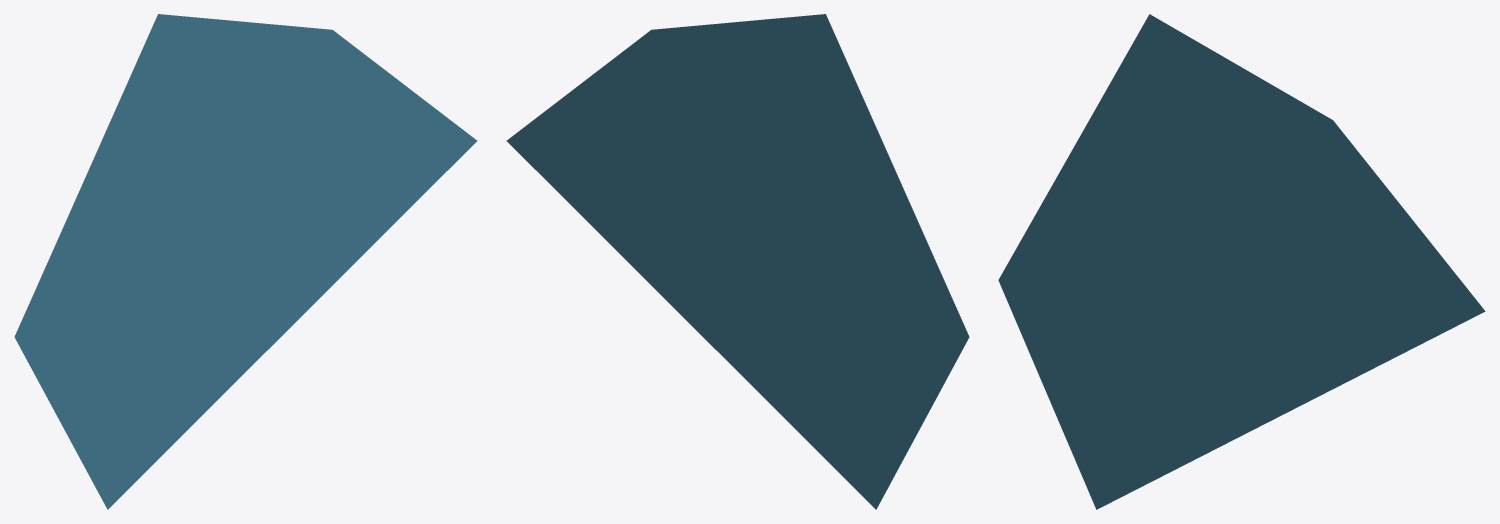
The model's file is NexusA_Cloth_28.fbx.
3 renders of one model, left to right at view 1: azimuth 30°, elevation 25°; view 2: azimuth 150°, elevation 25°; view 3: azimuth 330°, elevation 25°, orthographic. The views are drawn at different scales.
Visible parts, largest first — view 1: pasted__polySurface98; view 2: pasted__polySurface98; view 3: pasted__polySurface98.
Part boxes in pixels (x1,y1,x2,y2): pasted__polySurface98: (14, 14, 477, 509); pasted__polySurface98: (506, 14, 969, 509); pasted__polySurface98: (998, 14, 1485, 509).
Bounding box in the file's own units: 29.03 × 28.98 × 3.82e-05.
